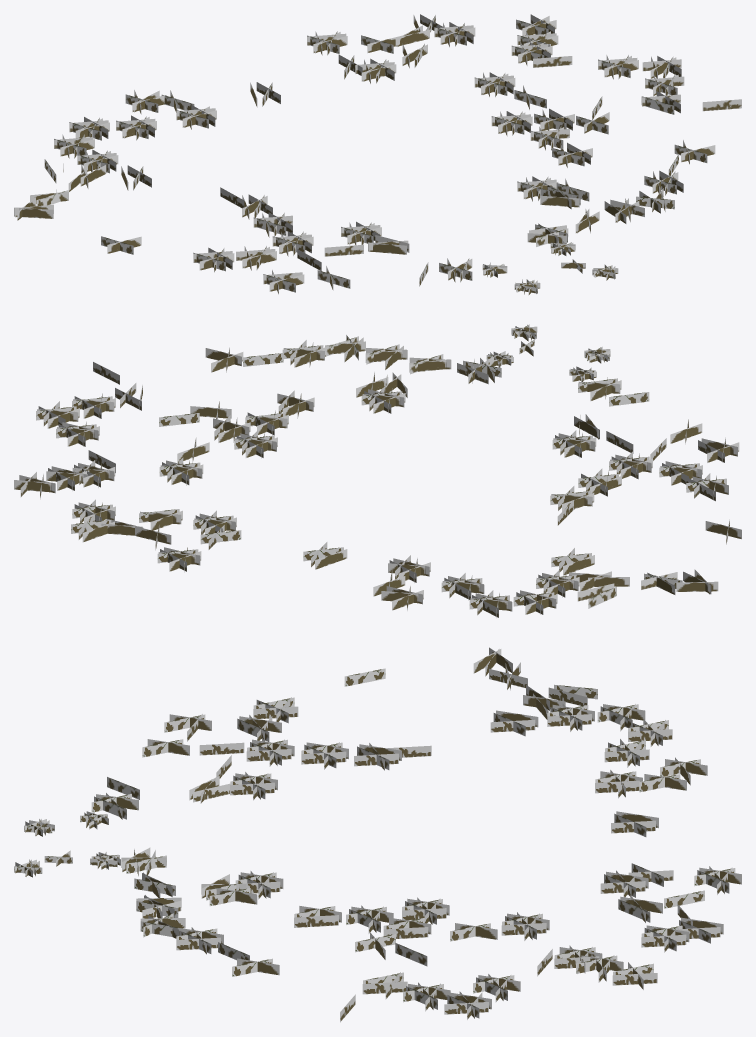
Rendered from Piramide_veget_01.fbx.
The picture shows the model from 3 angles, top to bottom: view 1: azimuth 30°, elevation 25°; view 2: azimuth 150°, elevation 25°; view 3: azimuth 270°, elevation 25°; orthographic projection. The views are drawn at different scales.
Parts seen in each view (by area): view 1: Piramide_veget_01; view 2: Piramide_veget_01; view 3: Piramide_veget_01.
Part boxes in pixels (x1,y1,x2,y2): Piramide_veget_01: (14, 14, 741, 295); Piramide_veget_01: (14, 324, 741, 617); Piramide_veget_01: (14, 647, 741, 1022).
Size of the model in its own units: 330 by 4.39 by 278.
